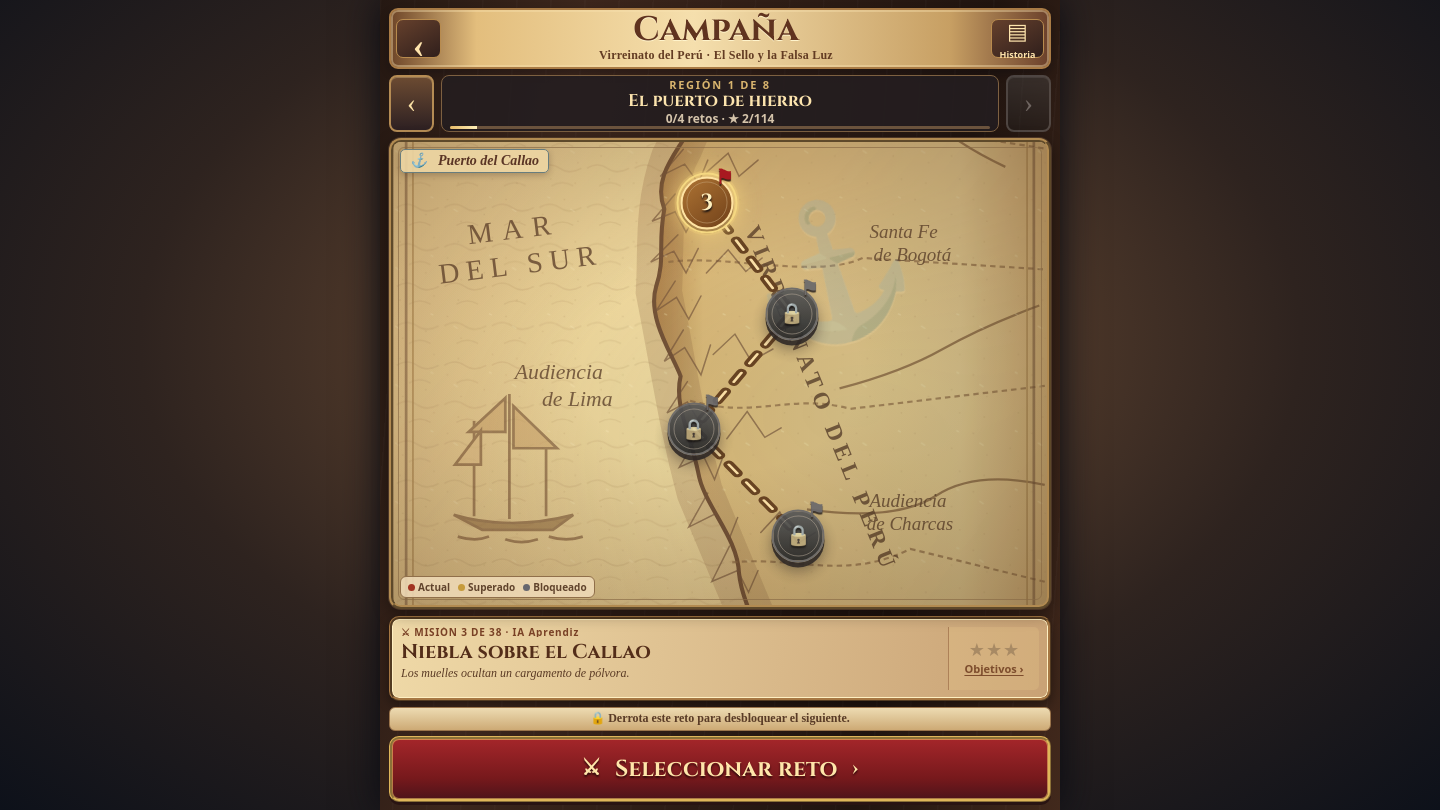
Test: map atmosphere changes when the next region becomes available
Expected: the text "⚓" is shown, [734,186,928,358]
Click the button named "Capítulo anterior" at (412, 104), box [389,75,434,132]
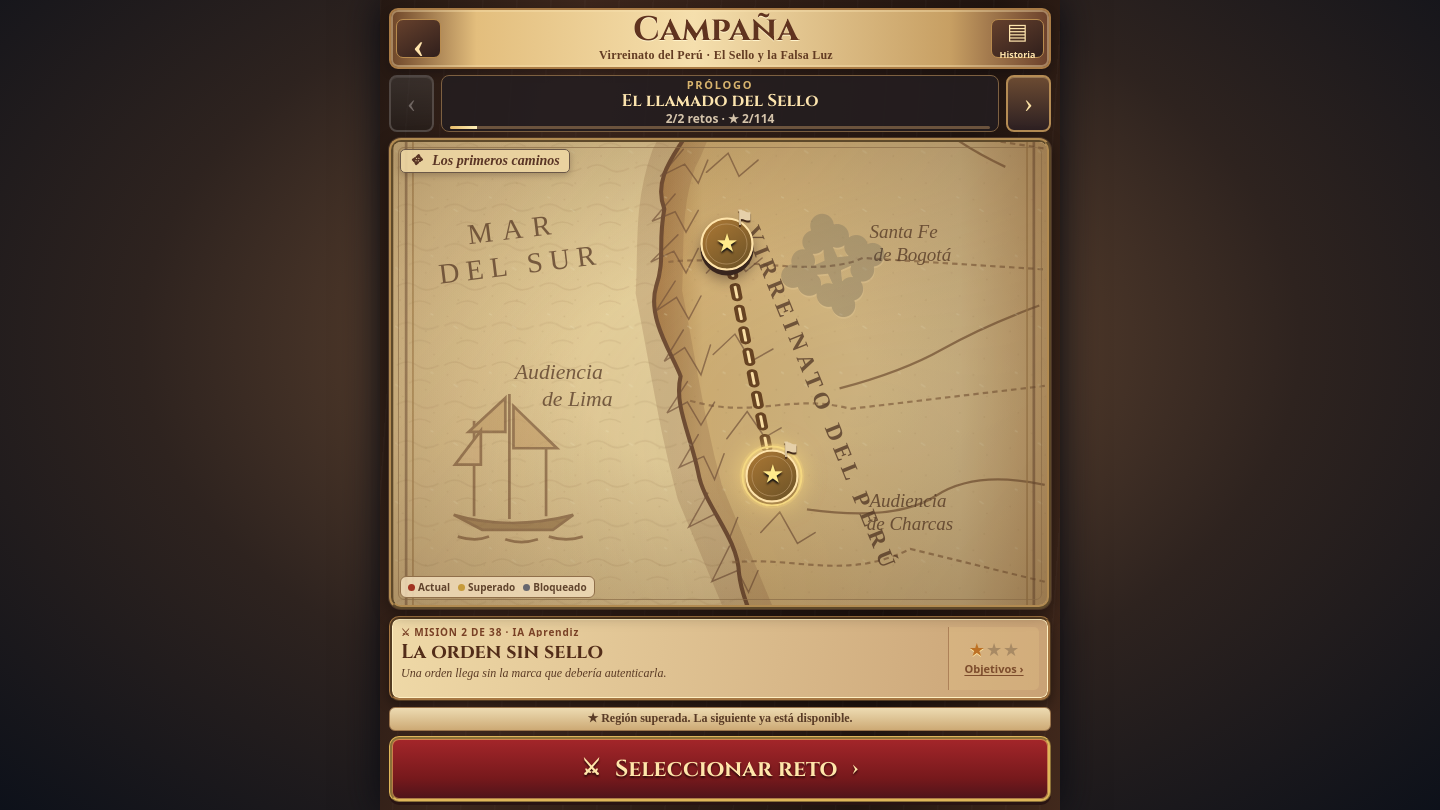
Expected: the element with class "dcm-region-map" has attribute data-region="p", [389,138,1051,609]
Click the button named "Capítulo siguiente" at (1028, 104), box [1006,75,1051,132]
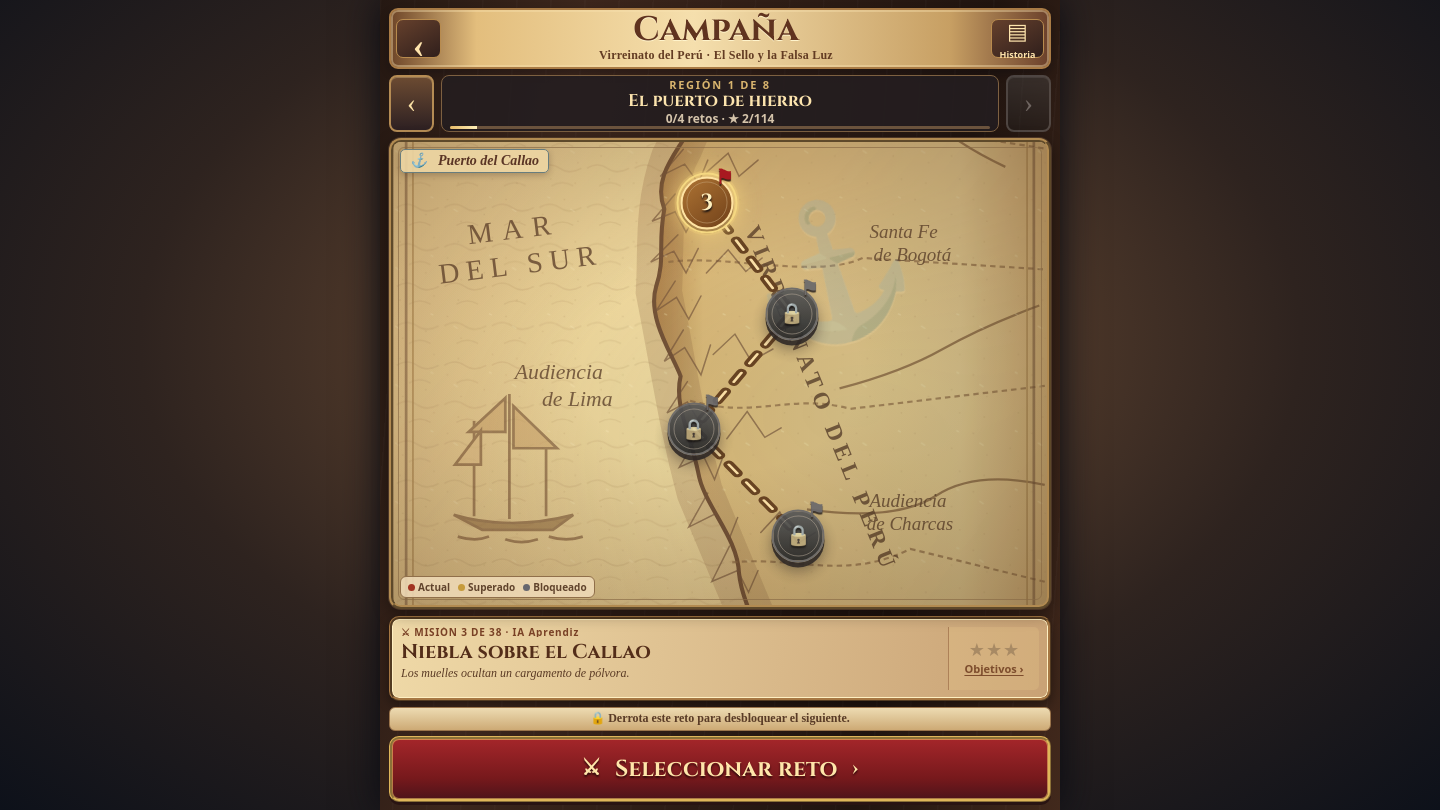
Expected: the button named "Misión 4:" is disabled, [765,287,818,340]
